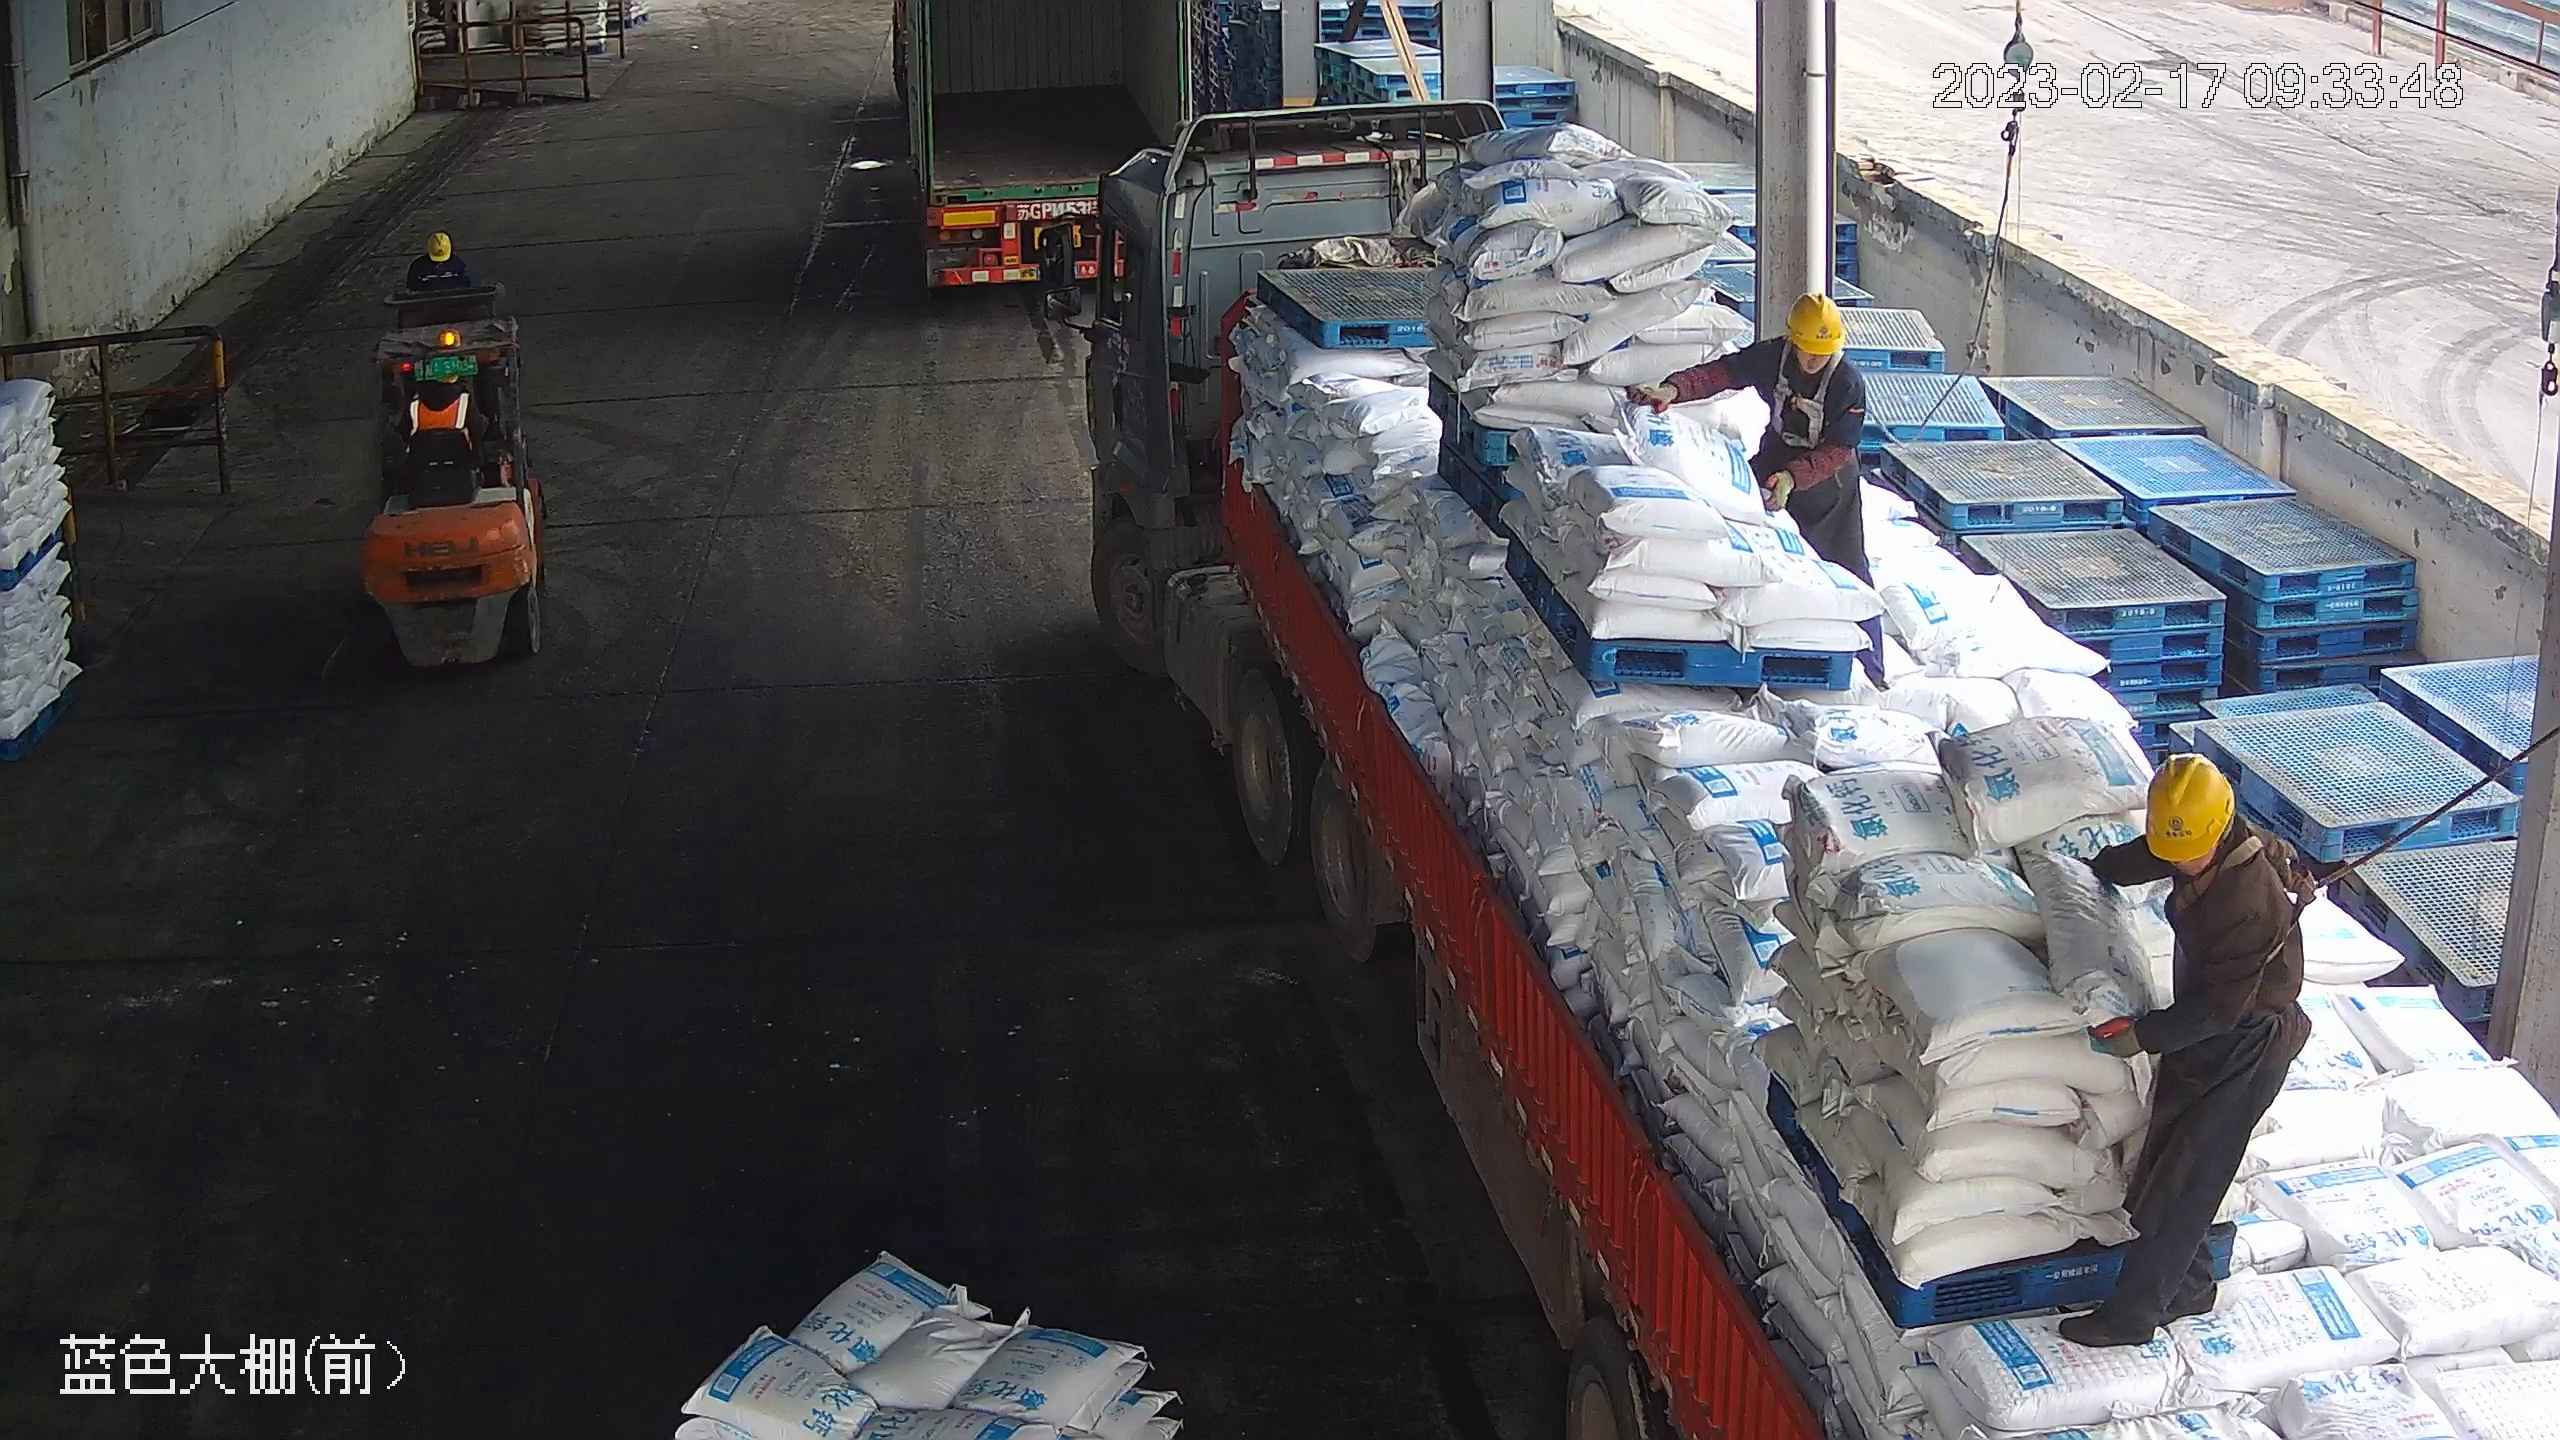belt: (2167, 832, 2320, 964), (1771, 353, 1844, 446)
head: (2099, 751, 2298, 938), (1756, 290, 1864, 407), (410, 231, 466, 280)
helmet: (2140, 751, 2237, 864), (1784, 290, 1847, 356), (425, 233, 452, 263)
people: (2059, 745, 2314, 1352), (1627, 285, 1895, 661)
truck: (1046, 88, 2550, 1438), (886, 1, 1194, 294)
